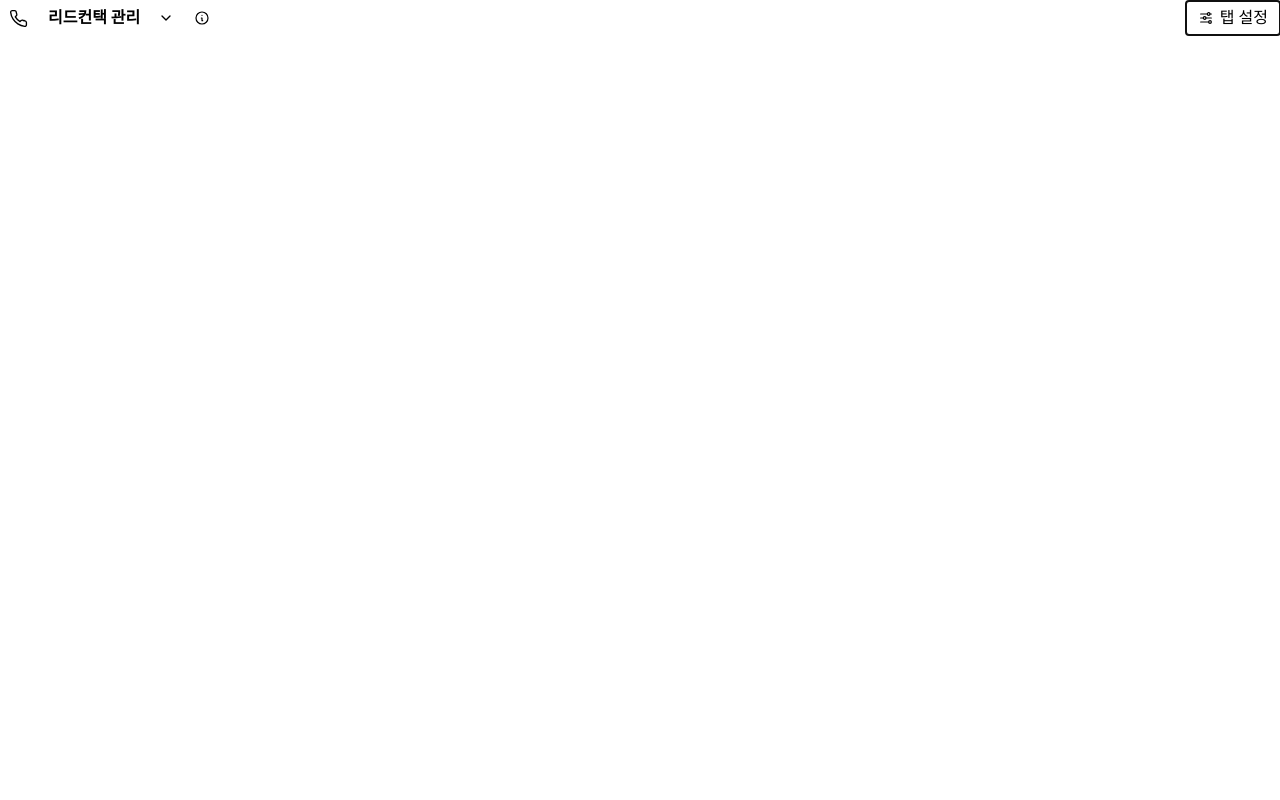
탭 설정 대화상자 — 모달 › 닫혀 있다가 「탭 설정」 을 누르면 열리고, 초점이 지금 칸의 탭으로 들어간다
Click the button "탭 설정" at coordinates (1233, 18), box [1186,1,1279,35]
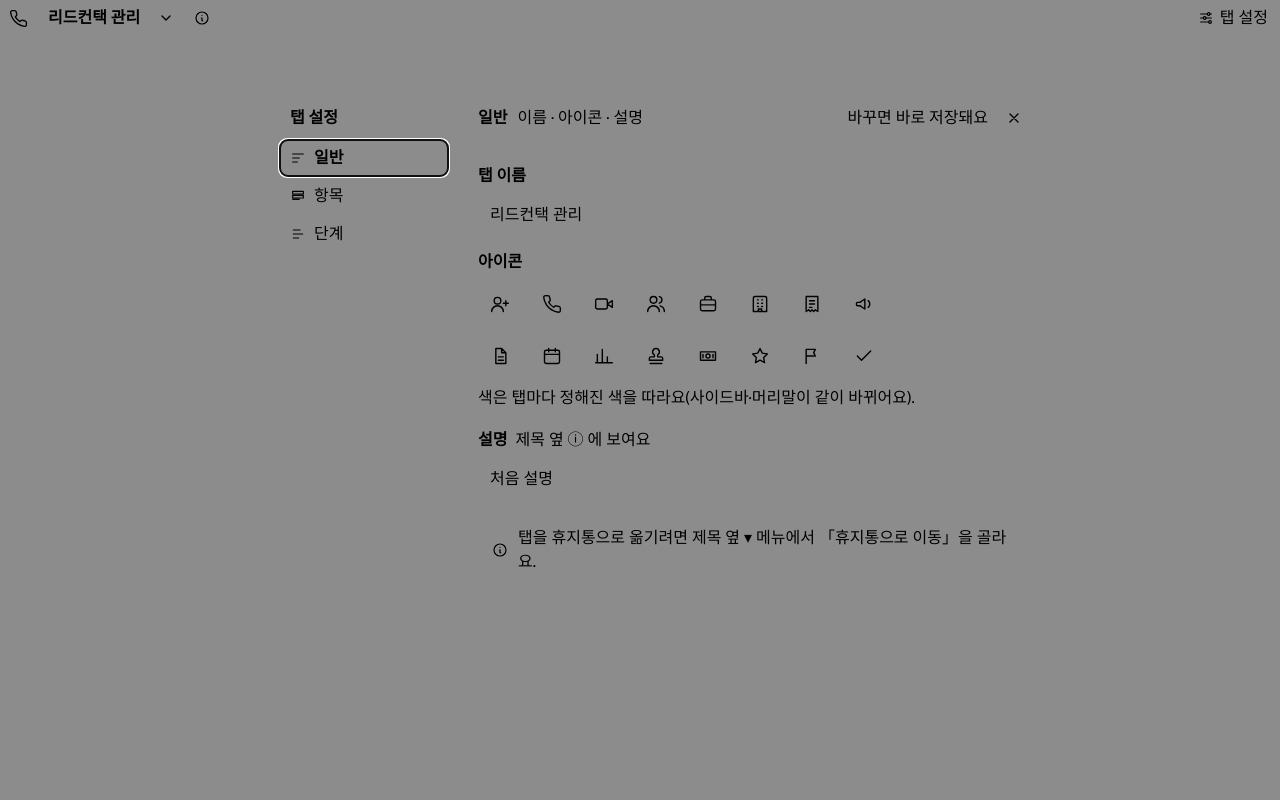
Expected: the dialog named "탭 설정" shows "바꾸면 바로 저장돼요", [848,107,988,128]
Expected: the heading "일반" is shown, [478,106,508,130]
Expected: the dialog named "탭 설정" shows "이름 · 아이콘 · 설명", [518,107,643,128]
